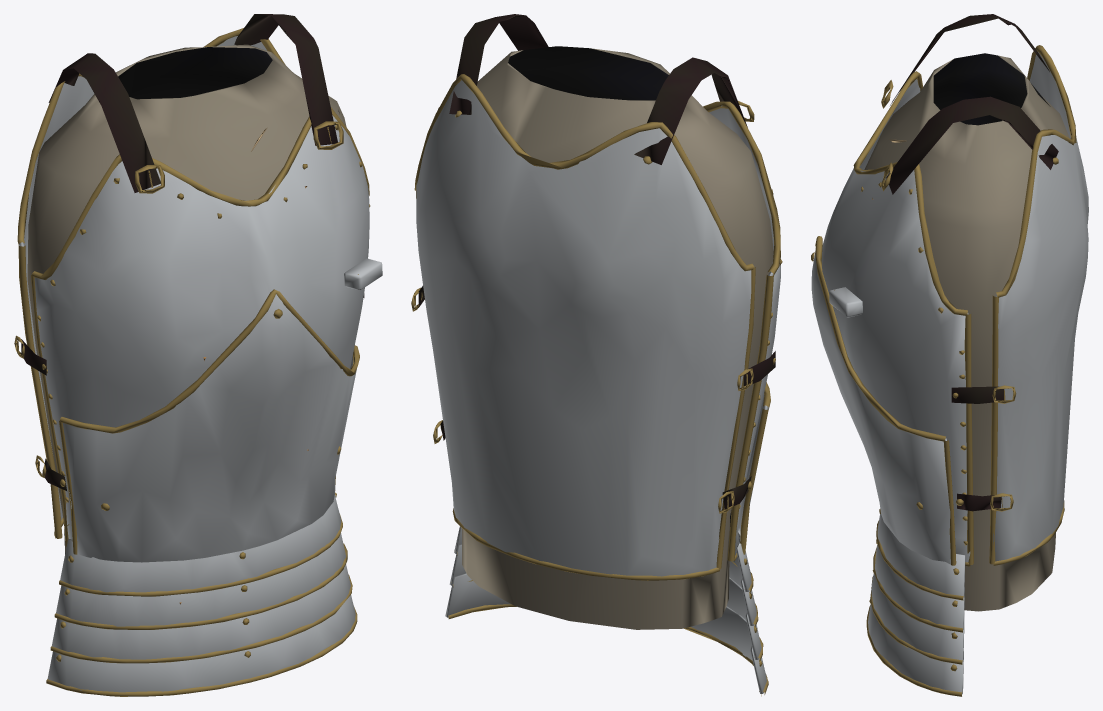
The picture shows the model from 3 angles, left to right: view 1: azimuth 30°, elevation 25°; view 2: azimuth 150°, elevation 25°; view 3: azimuth 270°, elevation 25°; orthographic projection. The views are drawn at different scales.
Visible parts, largest first — view 1: polished fluted plate, quilted linen lining; view 2: polished fluted plate, quilted linen lining; view 3: polished fluted plate, quilted linen lining.
Part boxes in pixels (bbox=[...]): polished fluted plate: bbox=[14, 28, 382, 696]; quilted linen lining: bbox=[21, 14, 364, 553]; polished fluted plate: bbox=[411, 74, 782, 696]; quilted linen lining: bbox=[418, 14, 775, 629]; polished fluted plate: bbox=[811, 45, 1088, 696]; quilted linen lining: bbox=[864, 14, 1069, 611].
Bounding box in the file's own units: 0.3921 × 0.6825 × 0.3017.
